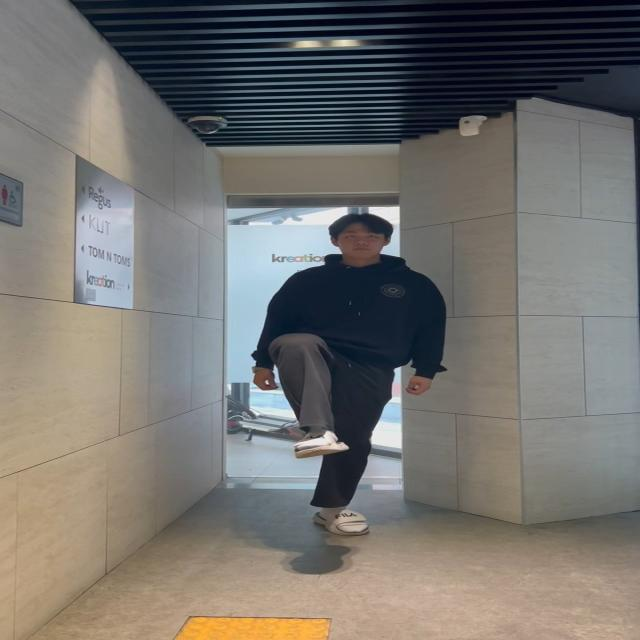knee: (280, 334, 341, 456)
